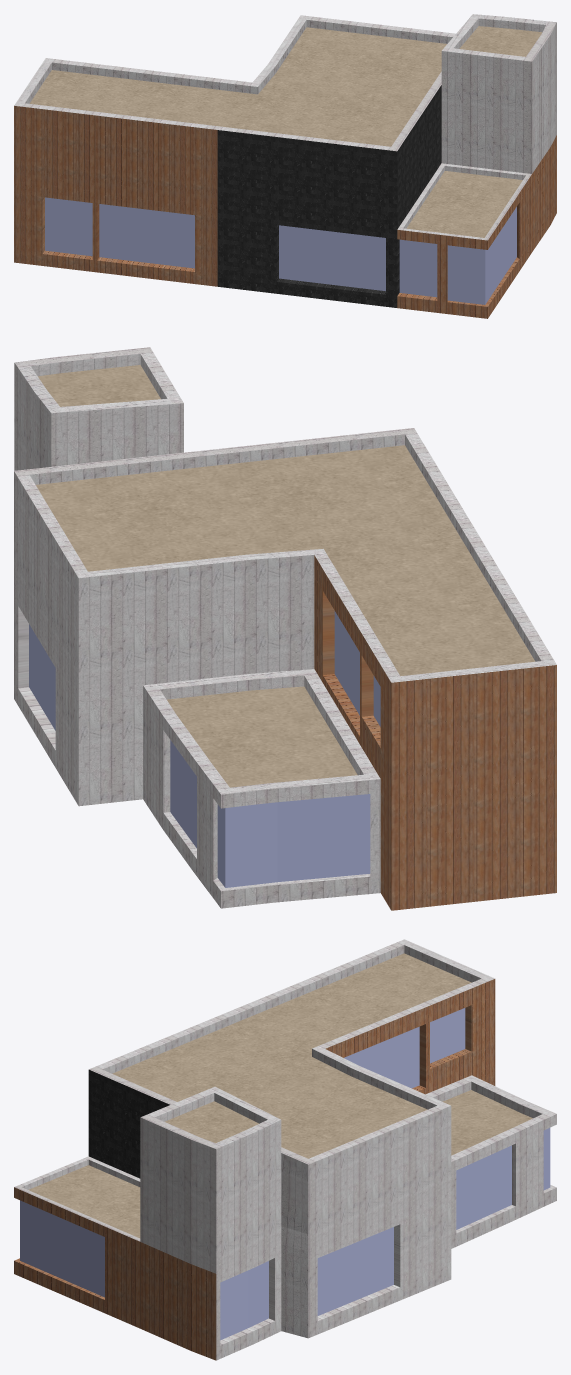
3 renders of one model, top to bottom at view 1: azimuth 30°, elevation 25°; view 2: azimuth 150°, elevation 25°; view 3: azimuth 270°, elevation 25°, orthographic. The views are drawn at different scales.
Visible parts, largest first — view 1: Cube.017; view 2: Cube.017; view 3: Cube.017.
Part boxes in pixels (x1,y1,x2,y2): Cube.017: (14, 14, 556, 318); Cube.017: (14, 347, 556, 910); Cube.017: (14, 939, 556, 1360).
Bounding box in the file's own units: 28.74 × 11.44 × 26.63.
Materials: 5 (4 with a texture image).
